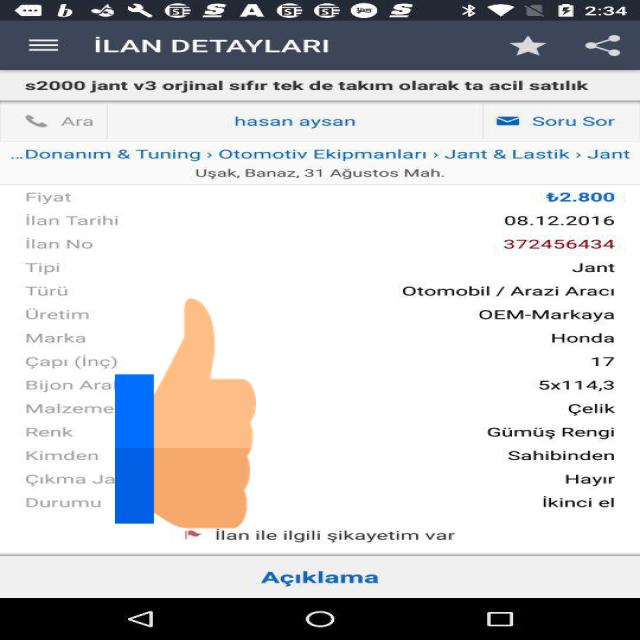privacy zuckering: (115, 293, 256, 534)
